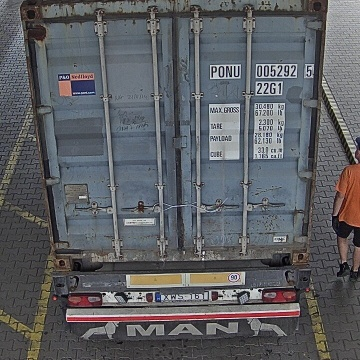serial_id: (210, 65, 313, 78)
